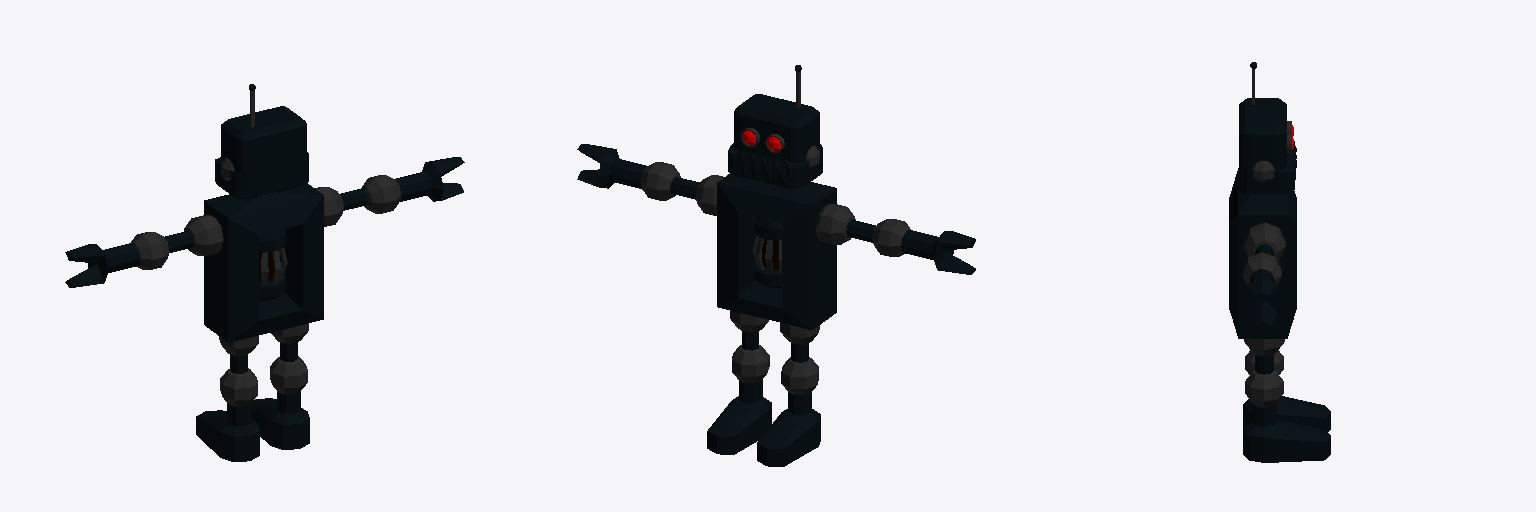
File: MediumRobot.obj
3 renders of one model, left to right at view 1: azimuth 30°, elevation 25°; view 2: azimuth 150°, elevation 25°; view 3: azimuth 270°, elevation 25°, orthographic.
Visible parts, largest first — view 1: pCube1, pasted__polySurface13 group2, pasted__polySurface13 group3, pasted__polySurface7 group1, group1 pasted__polySurface15, pasted__pCylinder1 group, group1 pasted__polySurface9 pasted__polySurface6, group1 pasted__polySurface6 pasted__polySurface14, group2 pasted__polySurface3 pasted__pSphere2, group3 pasted__polySurface3 pasted__pSphere2; view 2: pCube1, pasted__polySurface13 group2, pasted__polySurface13 group3, pasted__polySurface7 group1, group1 pasted__polySurface15, pasted__pCylinder1 group, group1 pasted__polySurface9 pasted__polySurface6, group1 pasted__polySurface6 pasted__polySurface14, group2 pasted__polySurface3 pasted__pSphere2, group3 pasted__polySurface3 pasted__pSphere2; view 3: pCube1, pasted__polySurface13 group3, group1 pasted__polySurface15, pasted__polySurface13 group2, group1 pasted__polySurface6 pasted__polySurface14, group3 pasted__polySurface3 pasted__pSphere2.
Boxes of the visible parts, <box> form: pCube1: <box>204,90,323,342</box>; pasted__polySurface13 group2: <box>196,368,259,461</box>; pasted__polySurface13 group3: <box>251,356,309,449</box>; pasted__polySurface7 group1: <box>65,232,169,287</box>; group1 pasted__polySurface15: <box>362,157,464,213</box>; pasted__pCylinder1 group: <box>259,229,287,300</box>; group1 pasted__polySurface9 pasted__polySurface6: <box>164,215,223,255</box>; group1 pasted__polySurface6 pasted__polySurface14: <box>315,187,367,226</box>; group2 pasted__polySurface3 pasted__pSphere2: <box>219,336,258,373</box>; group3 pasted__polySurface3 pasted__pSphere2: <box>271,323,308,361</box>; pCube1: <box>717,71,836,329</box>; pasted__polySurface13 group2: <box>757,357,820,466</box>; pasted__polySurface13 group3: <box>707,345,771,454</box>; pasted__polySurface7 group1: <box>872,219,975,274</box>; group1 pasted__polySurface15: <box>577,144,680,200</box>; pasted__pCylinder1 group: <box>753,216,781,288</box>; group1 pasted__polySurface9 pasted__polySurface6: <box>816,204,875,244</box>; group1 pasted__polySurface6 pasted__polySurface14: <box>670,175,723,215</box>; group2 pasted__polySurface3 pasted__pSphere2: <box>780,323,819,362</box>; group3 pasted__polySurface3 pasted__pSphere2: <box>730,310,768,350</box>; pCube1: <box>1229,69,1296,338</box>; pasted__polySurface13 group3: <box>1243,370,1330,462</box>; group1 pasted__polySurface15: <box>1241,252,1283,328</box>; pasted__polySurface13 group2: <box>1243,350,1330,431</box>; group1 pasted__polySurface6 pasted__polySurface14: <box>1244,222,1285,260</box>; group3 pasted__polySurface3 pasted__pSphere2: <box>1244,339,1284,374</box>.
Bounding box in the file's own units: 21.33 × 19.34 × 4.83.